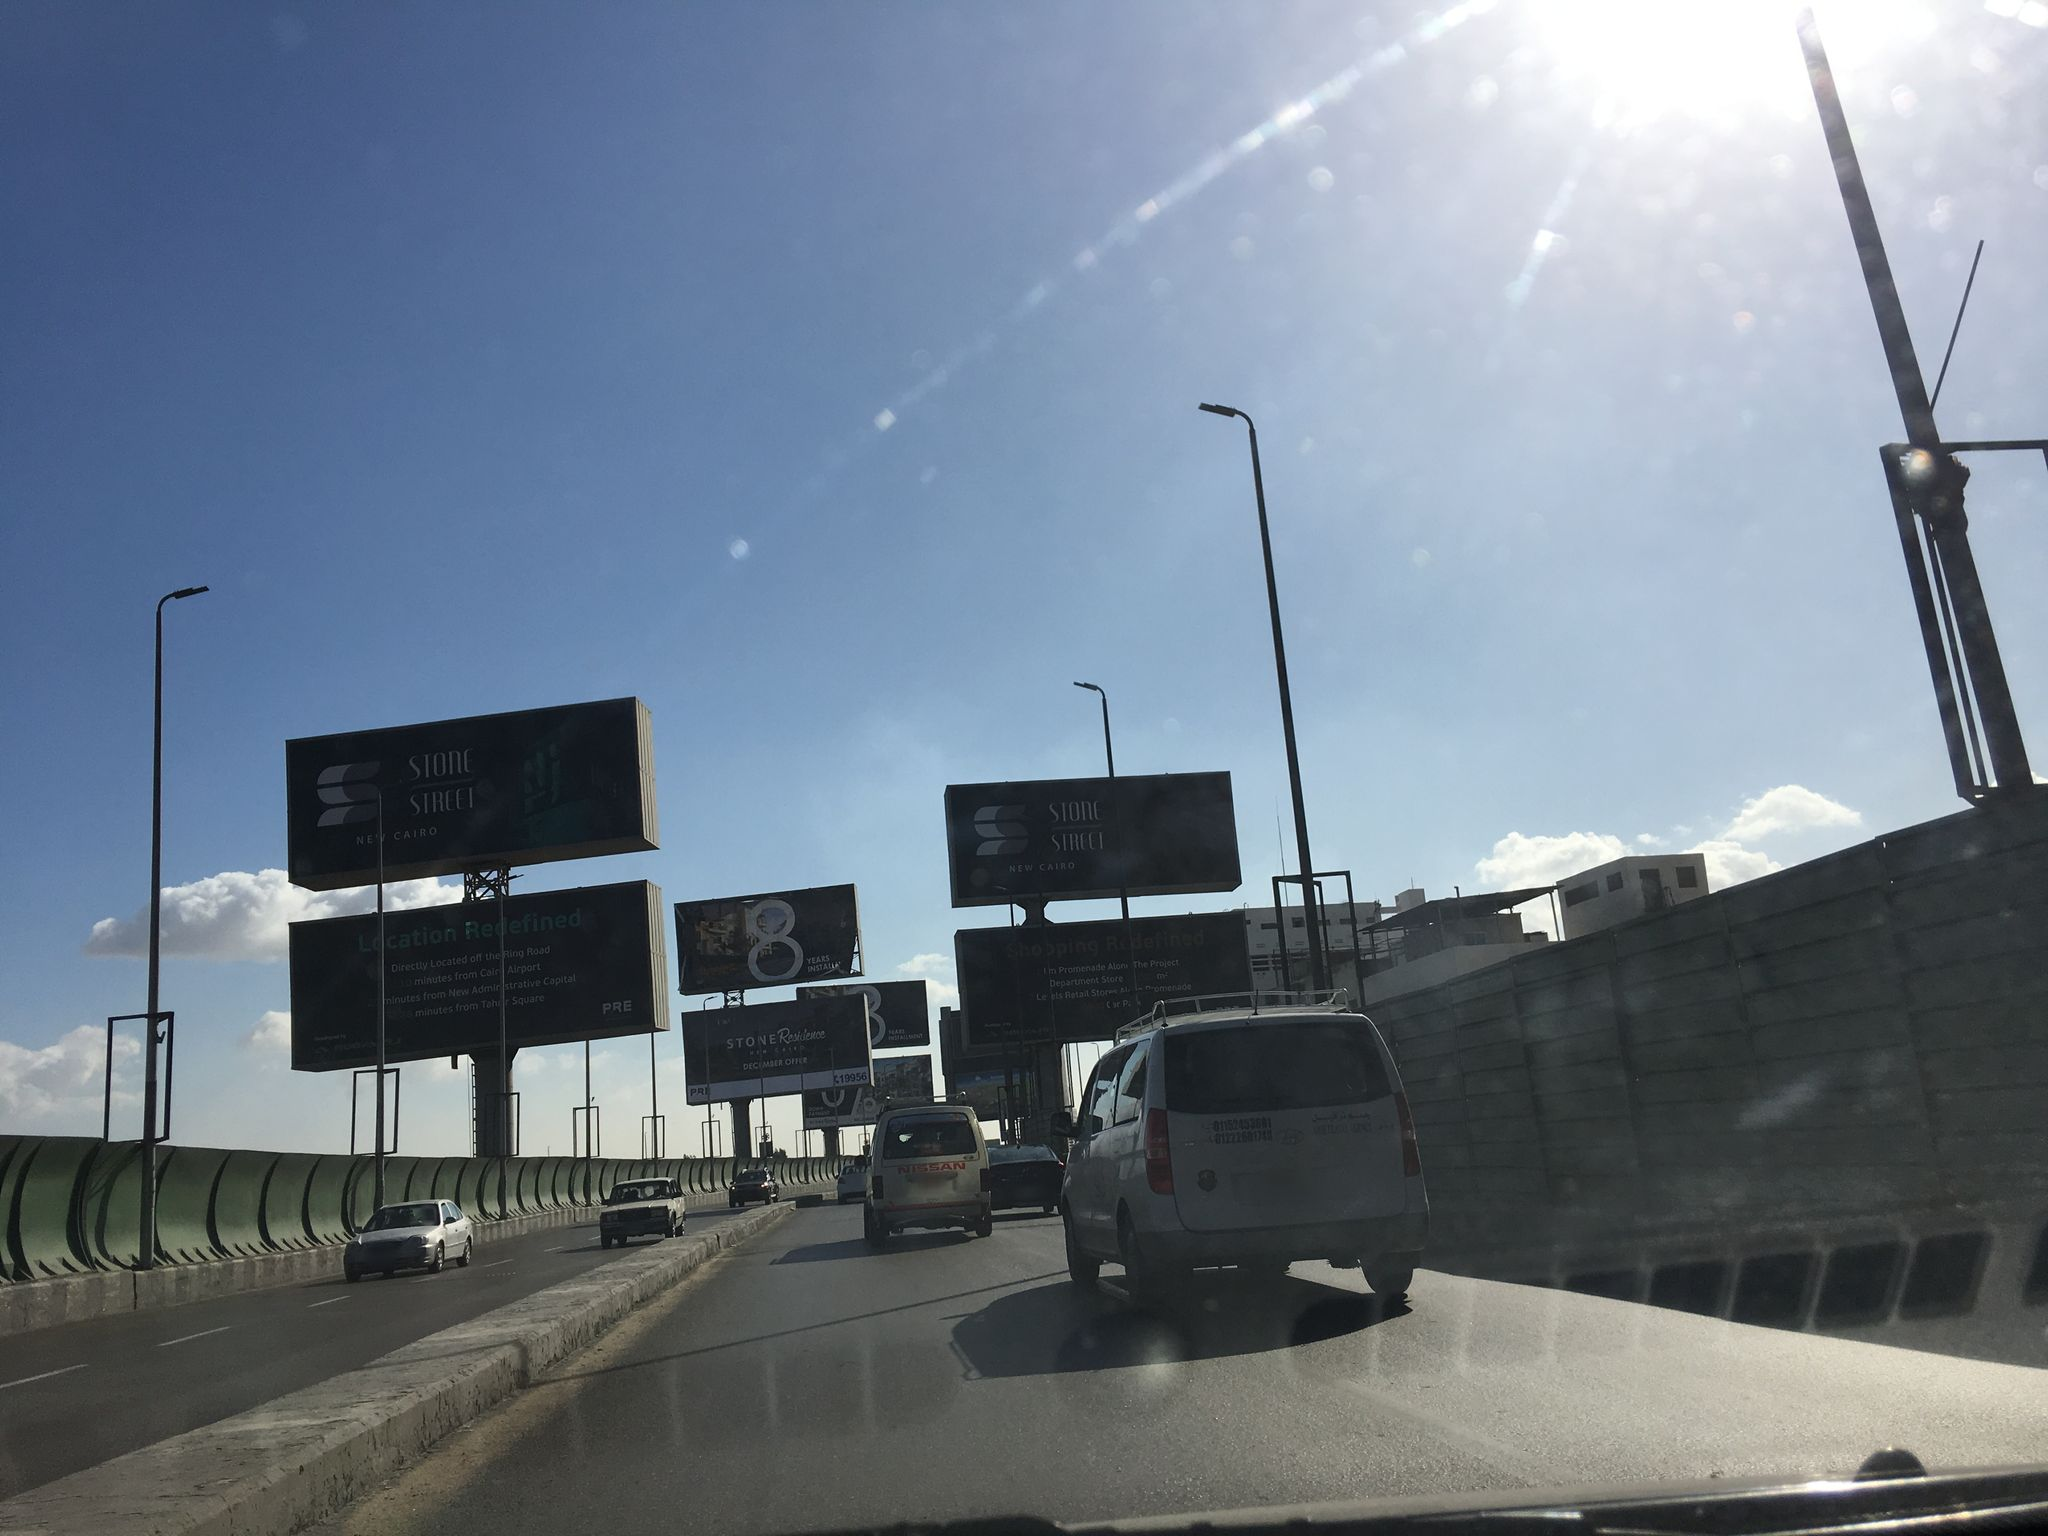car: (1047, 986, 1430, 1313), (861, 1091, 992, 1246), (342, 1199, 472, 1283), (600, 1176, 685, 1249), (984, 1142, 1064, 1217), (727, 1167, 779, 1205), (834, 1163, 868, 1204)
